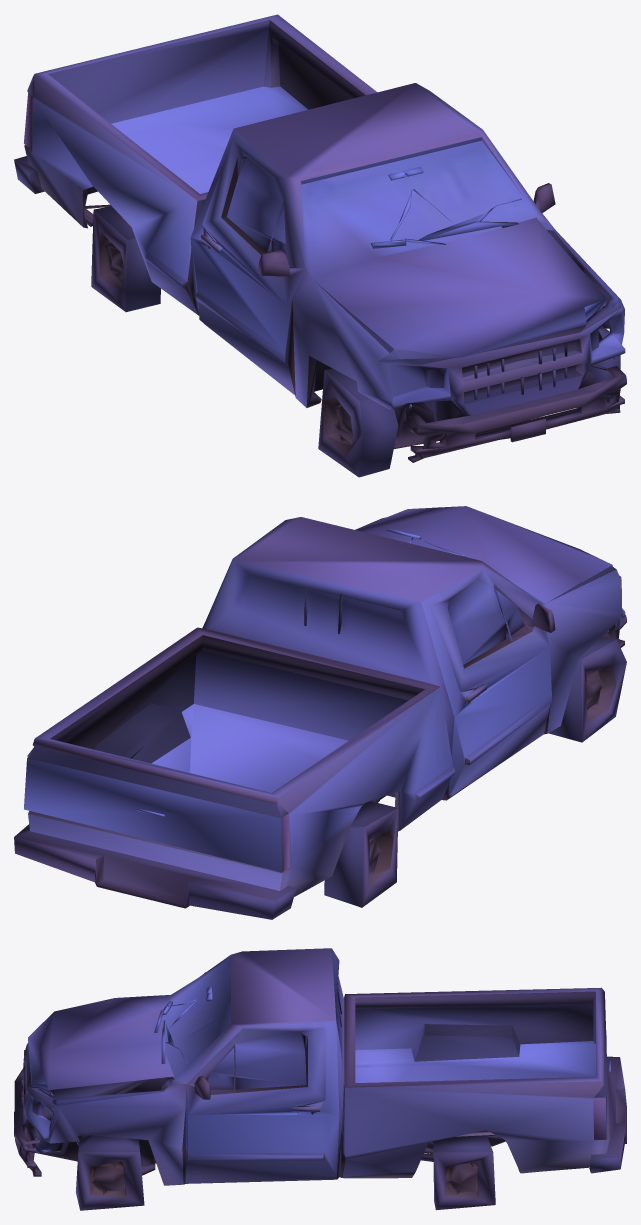
The model's file is model.progressive.glb.
3 views of the same model, one above another, from view 1: azimuth 30°, elevation 25°; view 2: azimuth 150°, elevation 25°; view 3: azimuth 270°, elevation 25° (orthographic). The views are drawn at different scales.
Visible parts, largest first — view 1: BrokenRustyPickupTruck1; view 2: BrokenRustyPickupTruck1; view 3: BrokenRustyPickupTruck1.
Boxes of the visible parts, x1,y1,x2,y2 form: BrokenRustyPickupTruck1: (14, 14, 626, 477); BrokenRustyPickupTruck1: (14, 506, 626, 919); BrokenRustyPickupTruck1: (14, 948, 626, 1210).
Bounding box in the file's own units: 0.826 × 0.6034 × 1.9.
1 material, 1 textured.
